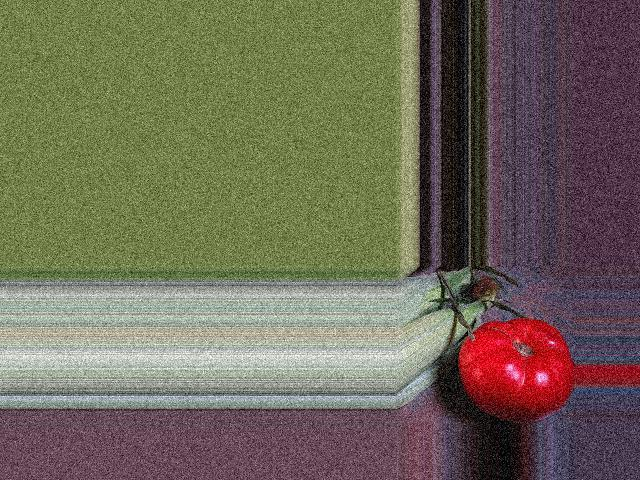tomato: (458, 318, 573, 423)
